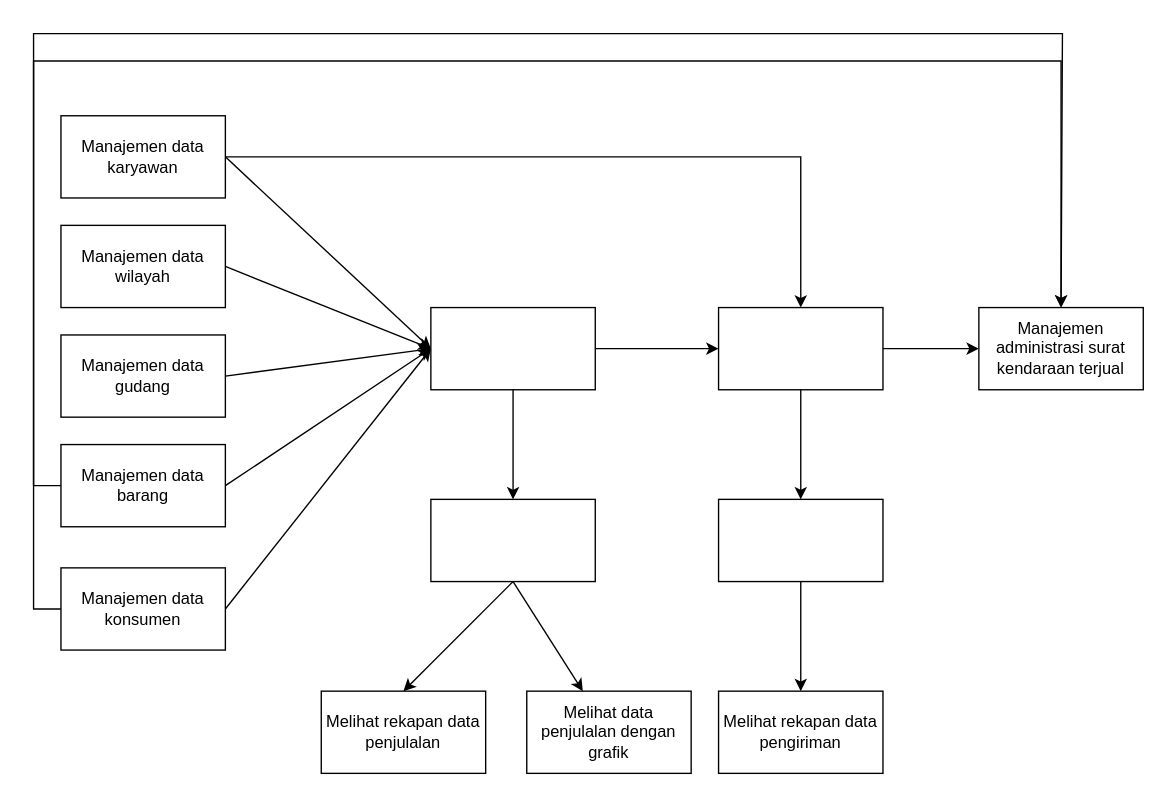
The diagram is 1167 pixels wide and 797 high, and some of its shapes have lost their labels. Here are the shapes that lost their labels. From the top down, the box of each, then its label:
(429, 306, 595, 390): Manajemen Data Penjualan
(717, 306, 883, 390): Manajemen Data Pengiriman
(429, 498, 595, 582): Unduh Faktur Jual
(717, 498, 883, 582): Unduh surat jalan
